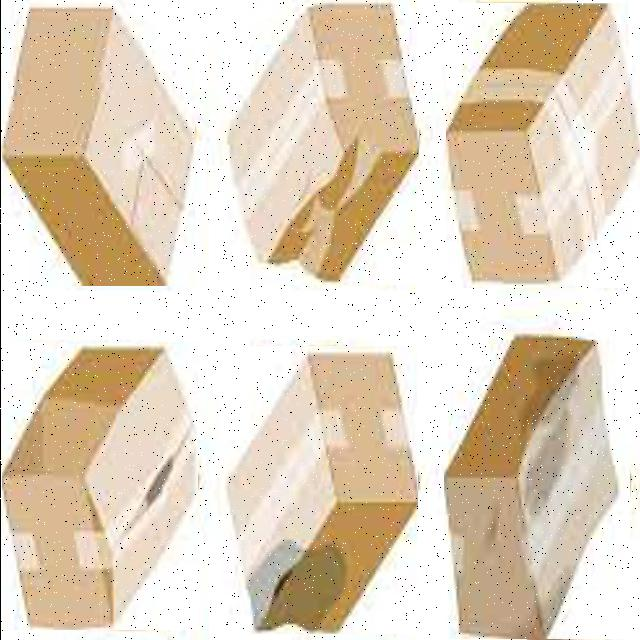defect: (443, 332, 629, 639), (220, 346, 417, 634), (1, 342, 197, 630), (225, 0, 418, 285)
normal: (445, 3, 640, 288), (1, 0, 194, 286)
